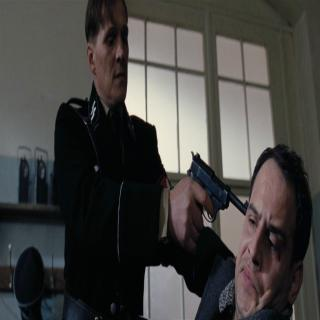gun: (182, 144, 248, 216)
